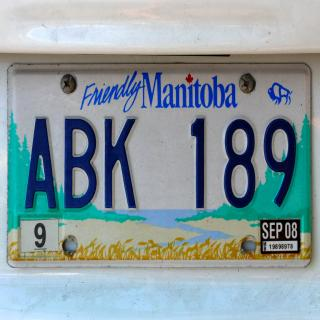license: (8, 62, 313, 268)
